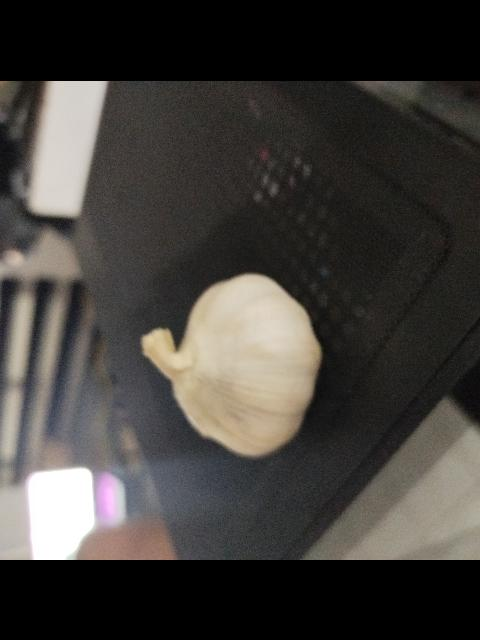garlic: (140, 271, 322, 457)
